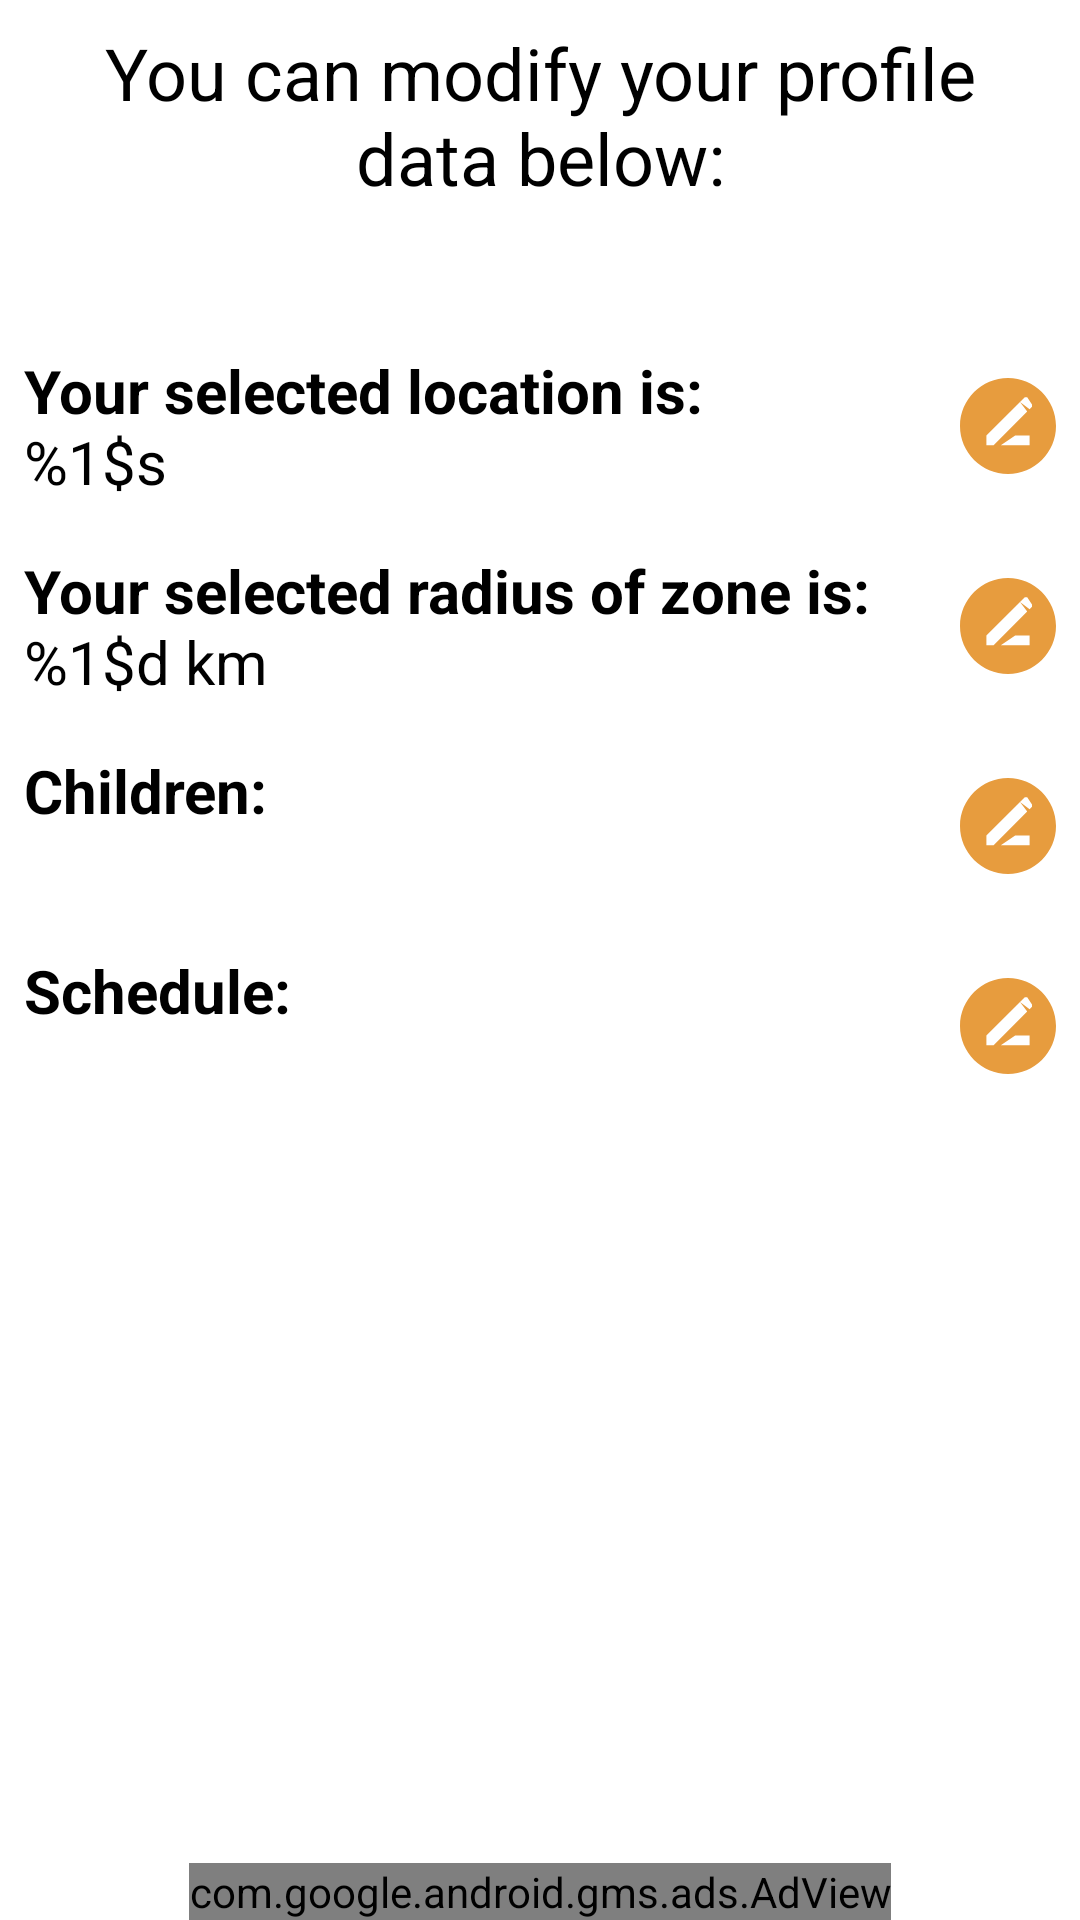

Icons on this 1080 x 1920 Android screen, each with the point to tap as point (x, y):
edit: point (1008, 426), point (1008, 626), point (1008, 826), point (1008, 1026)
